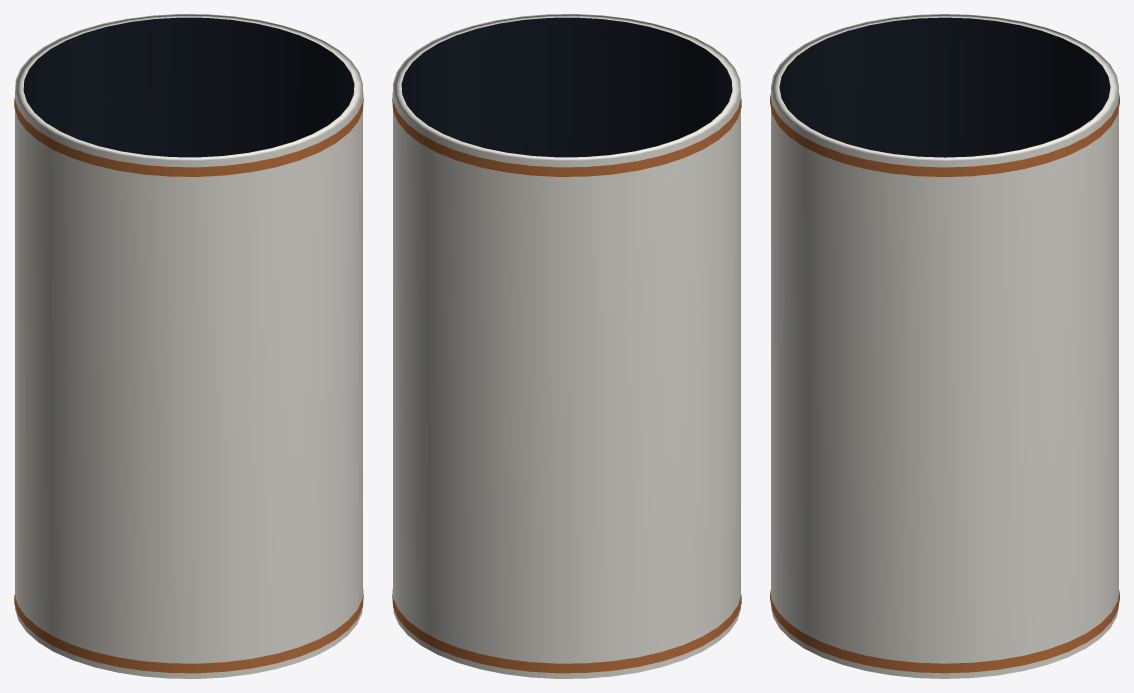
The picture shows the model from 3 angles, left to right: view 1: azimuth 30°, elevation 25°; view 2: azimuth 150°, elevation 25°; view 3: azimuth 270°, elevation 25°; orthographic projection.
Visible parts, largest first — view 1: is_125.mesh_Warm_white_enamel, is_125.mesh_Shadowed_interior, is_125.mesh_Spray-on_insulation; view 2: is_125.mesh_Warm_white_enamel, is_125.mesh_Shadowed_interior, is_125.mesh_Spray-on_insulation; view 3: is_125.mesh_Warm_white_enamel, is_125.mesh_Shadowed_interior, is_125.mesh_Spray-on_insulation.
Part boxes in pixels (bbox=[...]): is_125.mesh_Warm_white_enamel: bbox=[15, 14, 362, 678]; is_125.mesh_Shadowed_interior: bbox=[23, 17, 354, 157]; is_125.mesh_Spray-on_insulation: bbox=[14, 93, 363, 673]; is_125.mesh_Warm_white_enamel: bbox=[393, 14, 740, 678]; is_125.mesh_Shadowed_interior: bbox=[401, 17, 732, 157]; is_125.mesh_Spray-on_insulation: bbox=[392, 93, 741, 673]; is_125.mesh_Warm_white_enamel: bbox=[771, 14, 1118, 678]; is_125.mesh_Shadowed_interior: bbox=[779, 17, 1110, 157]; is_125.mesh_Spray-on_insulation: bbox=[770, 94, 1119, 673].
Bounding box in the file's own units: 1.32 × 2.15 × 1.32.
